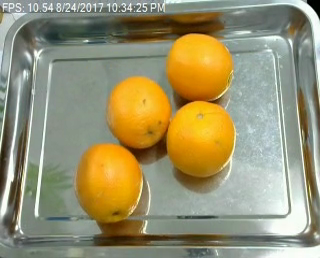Orange: (75, 141, 143, 222), (166, 101, 235, 178), (166, 33, 235, 102), (107, 76, 171, 148)
